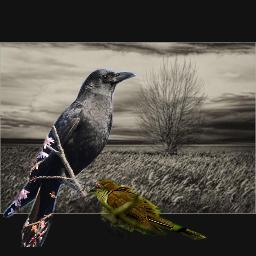Crow: (3, 67, 136, 247)
Cuckoo: (87, 178, 206, 240)
